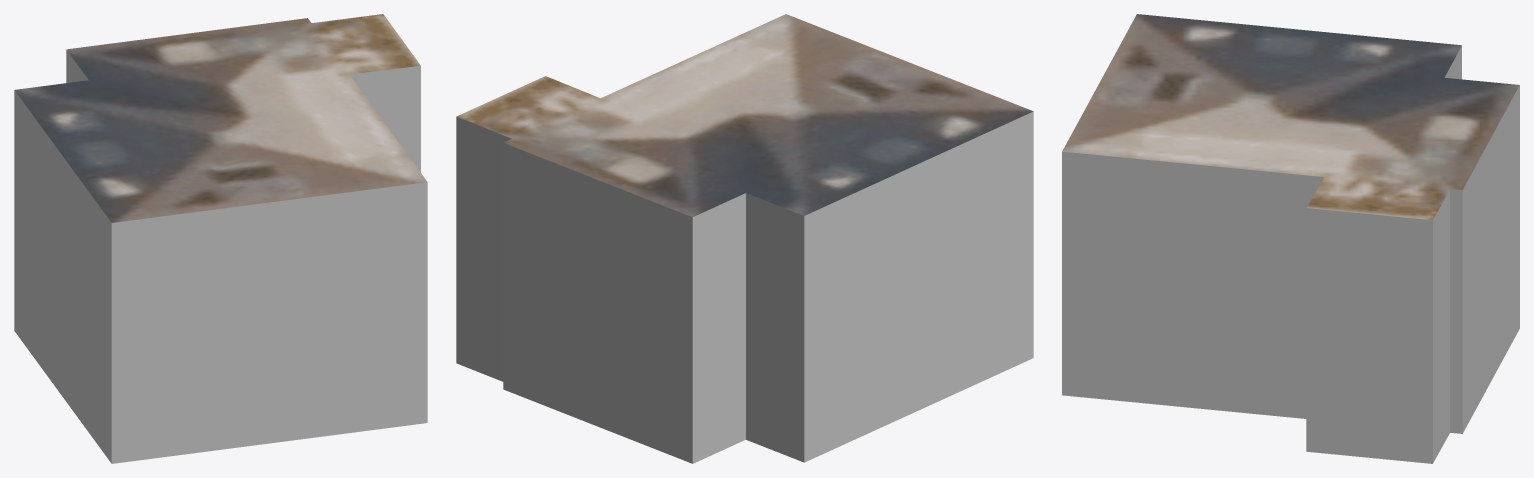
Rendered from DEBW_0010007Txcy.gltf.
The picture shows the model from 3 angles, left to right: view 1: azimuth 30°, elevation 25°; view 2: azimuth 150°, elevation 25°; view 3: azimuth 270°, elevation 25°; orthographic projection. The views are drawn at different scales.
Parts seen in each view (by area): view 1: Z_UP; view 2: Z_UP; view 3: Z_UP.
Boxes of the visible parts, x1=… form: Z_UP: x1=14, y1=14, x2=427, y2=463; Z_UP: x1=456, y1=14, x2=1033, y2=463; Z_UP: x1=1062, y1=14, x2=1519, y2=463.
Size of the model in its own units: 18.34 by 10.1 by 17.2.
2 materials, 1 textured.
